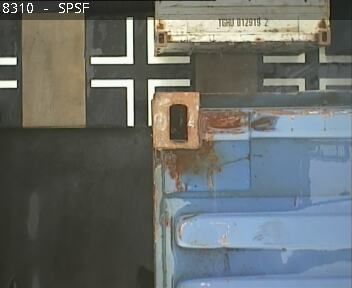groundmarker_1: (91, 17, 190, 63), (90, 78, 189, 124), (262, 36, 350, 62), (262, 76, 352, 92)
